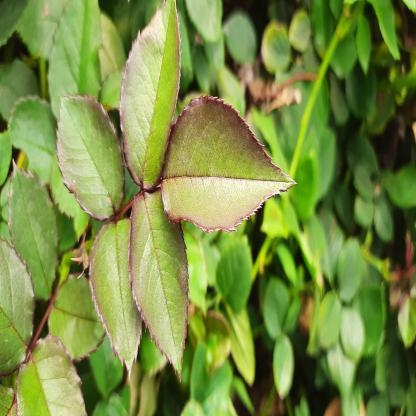normal: (164, 89, 296, 235), (128, 190, 198, 374), (120, 4, 182, 182), (92, 214, 147, 374), (53, 89, 119, 219), (10, 150, 56, 297)
